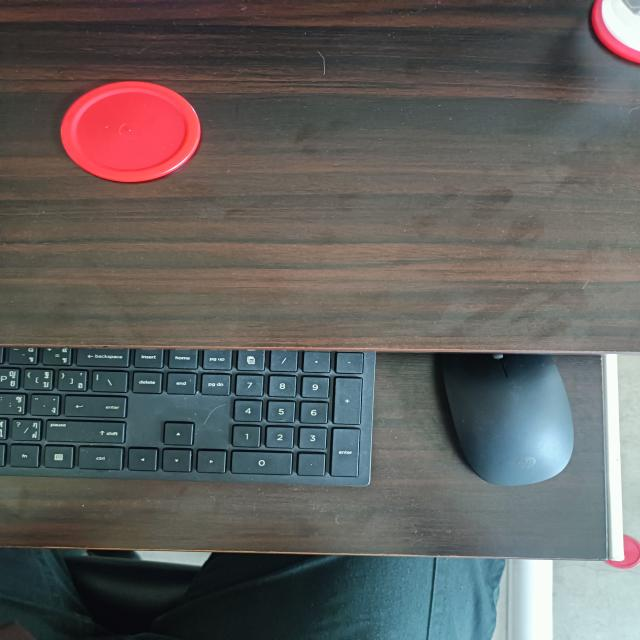chip: (58, 81, 204, 184), (606, 533, 640, 569)
